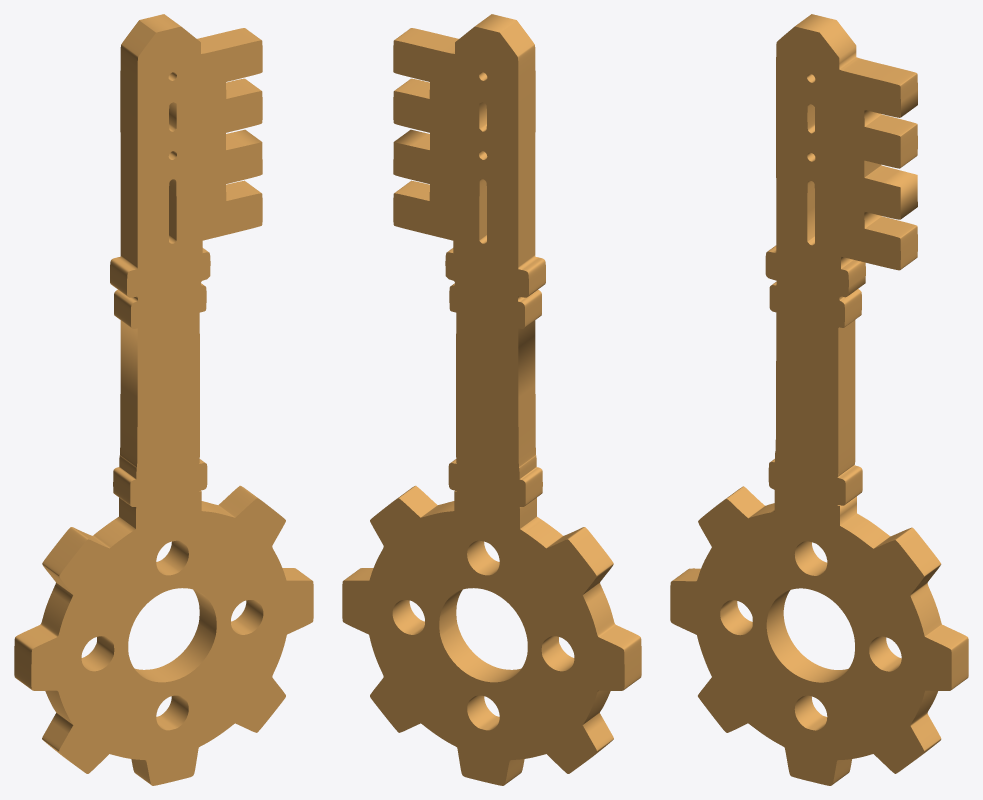
Rendered from key-1.glb.
The picture shows the model from 3 angles, left to right: view 1: azimuth 30°, elevation 25°; view 2: azimuth 150°, elevation 25°; view 3: azimuth 330°, elevation 25°; orthographic projection.
Parts seen in each view (by area): view 1: rotate; view 2: rotate; view 3: rotate.
Part boxes in pixels (bbox=[...]): rotate: bbox=[14, 14, 313, 785]; rotate: bbox=[342, 14, 641, 785]; rotate: bbox=[670, 14, 968, 785].
Bounding box in the file's own units: 0.0477 × 0.1217 × 0.005.
